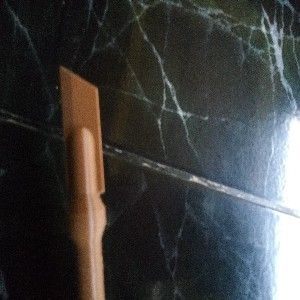cutter: (57, 63, 108, 300)
